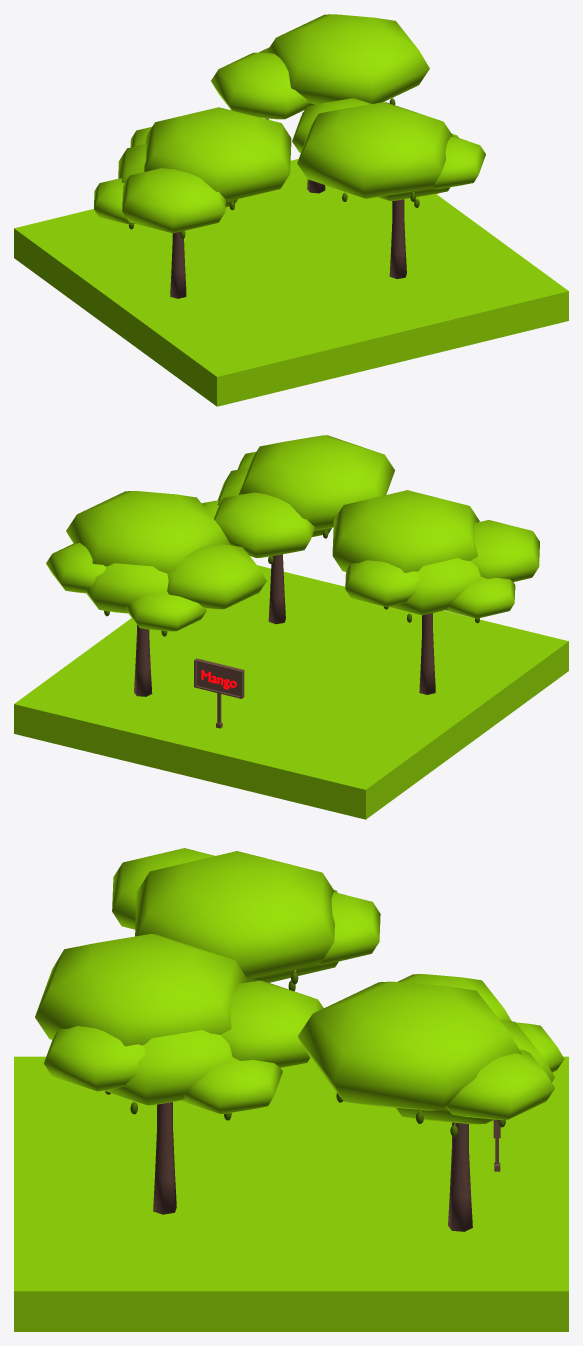
The model's file is Mango_A.fbx.
The picture shows the model from 3 angles, top to bottom: view 1: azimuth 30°, elevation 25°; view 2: azimuth 150°, elevation 25°; view 3: azimuth 270°, elevation 25°; orthographic projection. The views are drawn at different scales.
Parts seen in each view (by area): view 1: Cube.032, Plane.020, Plane.011, Plane.019; view 2: Cube.032, Plane.019, Plane.020, Plane.011, Cube.066; view 3: Cube.032, Plane.011, Plane.019, Plane.020.
Boxes of the visible parts, left/top/right/bottom form: Cube.032: left=14, top=159, right=568, bottom=406; Plane.020: left=94, top=107, right=291, bottom=298; Plane.011: left=292, top=98, right=485, bottom=278; Plane.019: left=211, top=14, right=429, bottom=193; Cube.032: left=14, top=565, right=568, bottom=819; Plane.019: left=46, top=491, right=266, bottom=696; Plane.020: left=332, top=490, right=539, bottom=694; Plane.011: left=202, top=435, right=394, bottom=624; Cube.066: left=194, top=658, right=244, bottom=728; Cube.032: left=14, top=1056, right=568, bottom=1331; Plane.011: left=35, top=934, right=323, bottom=1214; Plane.019: left=297, top=974, right=564, bottom=1231; Plane.020: left=112, top=848, right=380, bottom=991.
Bounding box in the file's own units: 2954 × 1512 × 2690.
